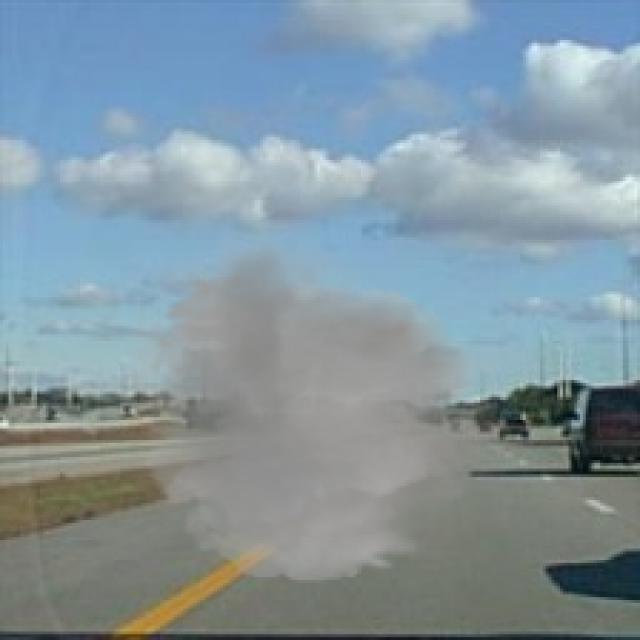smoke: (111, 214, 523, 592)
